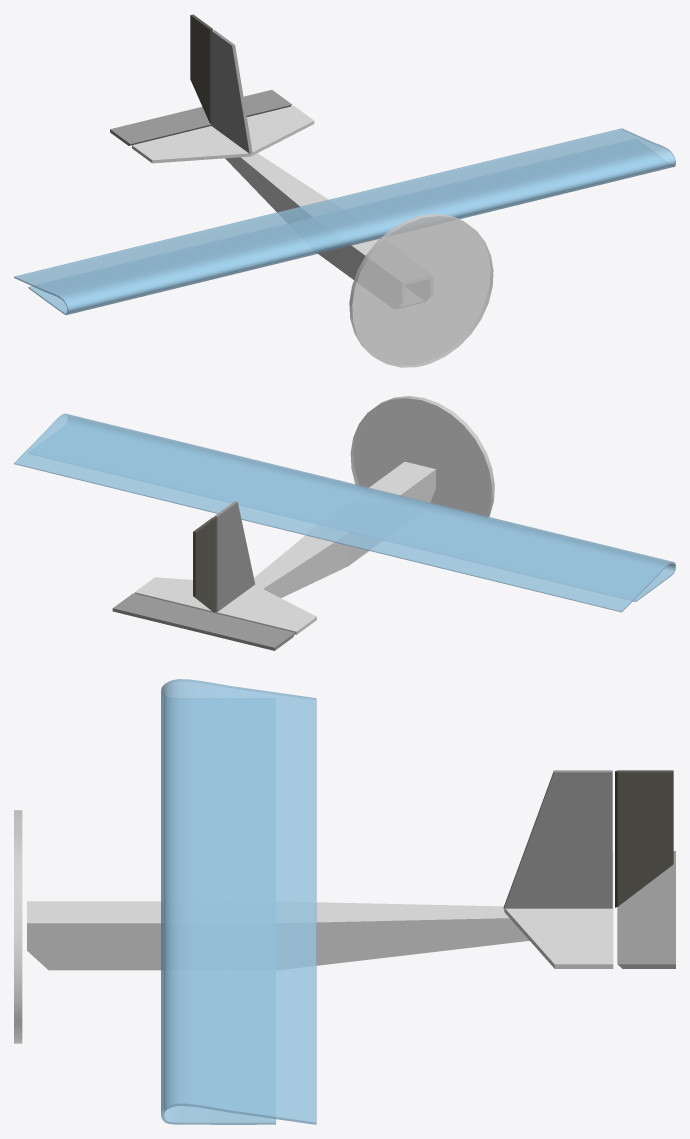
Rendered from Chonkyv2Simplified.obj.
3 renders of one model, top to bottom at view 1: azimuth 30°, elevation 25°; view 2: azimuth 150°, elevation 25°; view 3: azimuth 270°, elevation 25°, orthographic. The views are drawn at different scales.
Parts seen in each view (by area): view 1: mesh2465, mesh2463, mesh3016, mesh3018, mesh3041, mesh2812, mesh3036, mesh2839, mesh2971, mesh2837, mesh3017, mesh2464 (+1 smaller); view 2: mesh2465, mesh2463, mesh3016, mesh3018, mesh3041, mesh3036, mesh2839, mesh2812, mesh2837, mesh2971, mesh2464, mesh2841 (+2 smaller); view 3: mesh2465, mesh2463, mesh2811, mesh2838, mesh2839, mesh2968, mesh2840, mesh3041, mesh3036, mesh3017, mesh2464, mesh2467.
Part boxes in pixels (left/top/right/bottom): mesh2465: left=15, top=128, right=675, bottom=314; mesh2463: left=15, top=130, right=674, bottom=313; mesh3016: left=352, top=216, right=493, bottom=367; mesh3018: left=349, top=214, right=490, bottom=364; mesh3041: left=132, top=106, right=313, bottom=160; mesh2812: left=211, top=31, right=249, bottom=153; mesh3036: left=110, top=90, right=291, bottom=143; mesh2839: left=241, top=153, right=380, bottom=255; mesh2971: left=190, top=15, right=209, bottom=122; mesh2837: left=225, top=157, right=311, bottom=222; mesh3017: left=349, top=214, right=493, bottom=367; mesh2464: left=14, top=128, right=621, bottom=277; mesh2465: left=15, top=413, right=675, bottom=610; mesh2463: left=15, top=415, right=674, bottom=611; mesh3016: left=354, top=396, right=494, bottom=516; mesh3018: left=350, top=398, right=491, bottom=516; mesh3041: left=135, top=577, right=316, bottom=631; mesh3036: left=113, top=593, right=294, bottom=647; mesh2839: left=254, top=461, right=435, bottom=588; mesh2812: left=217, top=502, right=255, bottom=611; mesh2837: left=263, top=534, right=348, bottom=597; mesh2971: left=196, top=518, right=215, bottom=611; mesh2464: left=14, top=463, right=621, bottom=612; mesh2841: left=348, top=469, right=435, bottom=565; mesh2465: left=161, top=679, right=315, bottom=1124; mesh2463: left=163, top=681, right=314, bottom=1124; mesh2811: left=504, top=772, right=612, bottom=908; mesh2838: left=278, top=918, right=529, bottom=969; mesh2839: left=27, top=901, right=509, bottom=923; mesh2968: left=617, top=772, right=673, bottom=906; mesh2840: left=27, top=923, right=277, bottom=970; mesh3041: left=505, top=851, right=613, bottom=964; mesh3036: left=617, top=851, right=675, bottom=964; mesh3017: left=14, top=810, right=22, bottom=1043; mesh2464: left=315, top=698, right=316, bottom=1123; mesh2467: left=161, top=1103, right=316, bottom=1124.
Bounding box in the file's own units: 1.2 × 0.3447 × 0.7908.
